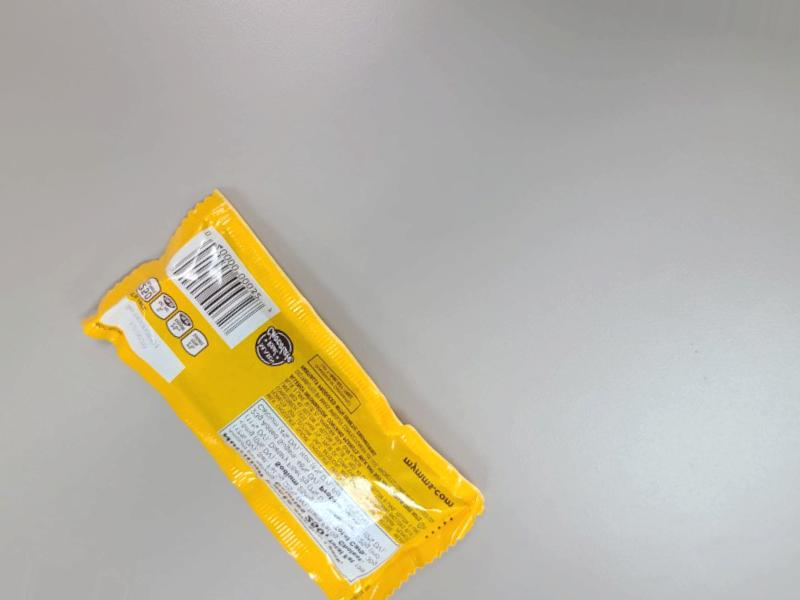m&m: (164, 171, 500, 554)
